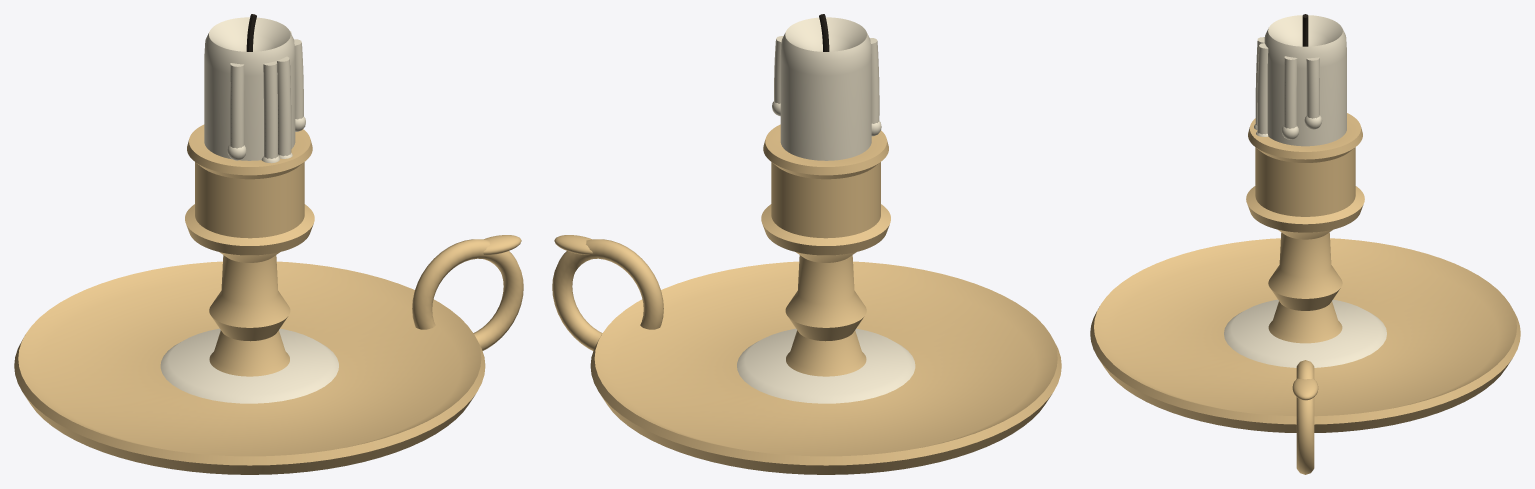
File: candle_out.glb
The picture shows the model from 3 angles, left to right: view 1: azimuth 30°, elevation 25°; view 2: azimuth 150°, elevation 25°; view 3: azimuth 270°, elevation 25°; orthographic projection. The views are drawn at different scales.
Visible parts, largest first — view 1: dish, stem, candle, puddle, loop, drip.002, drip.001, drip, drip.004, thumb; view 2: dish, stem, candle, puddle, loop, drip, thumb; view 3: dish, stem, candle, puddle, loop, drip.001, drip.004, drip.003, thumb.
Part boxes in pixels (box(x1,y1,x2,y2)): dish: box(14, 261, 485, 474); stem: box(185, 124, 314, 376); candle: box(204, 17, 295, 160); puddle: box(160, 328, 338, 403); loop: box(412, 239, 523, 350); drip.002: box(263, 61, 277, 158); drip.001: box(277, 56, 291, 156); drip: box(230, 63, 244, 148); drip.004: box(294, 39, 303, 119); thumb: box(483, 235, 521, 254); dish: box(590, 261, 1061, 474); stem: box(761, 124, 890, 376); candle: box(780, 17, 871, 160); puddle: box(737, 328, 915, 403); loop: box(552, 239, 663, 350); drip: box(870, 38, 879, 123); thumb: box(554, 235, 592, 254); dish: box(1090, 238, 1520, 432); stem: box(1246, 113, 1364, 343); candle: box(1264, 15, 1346, 146); puddle: box(1224, 299, 1386, 367); loop: box(1296, 360, 1314, 474); drip.001: box(1257, 43, 1268, 134); drip.004: box(1284, 56, 1297, 128); drip.003: box(1306, 57, 1319, 118); thumb: box(1292, 378, 1318, 400).
Bounding box in the file's own units: 1.35 × 1.07 × 1.16.
